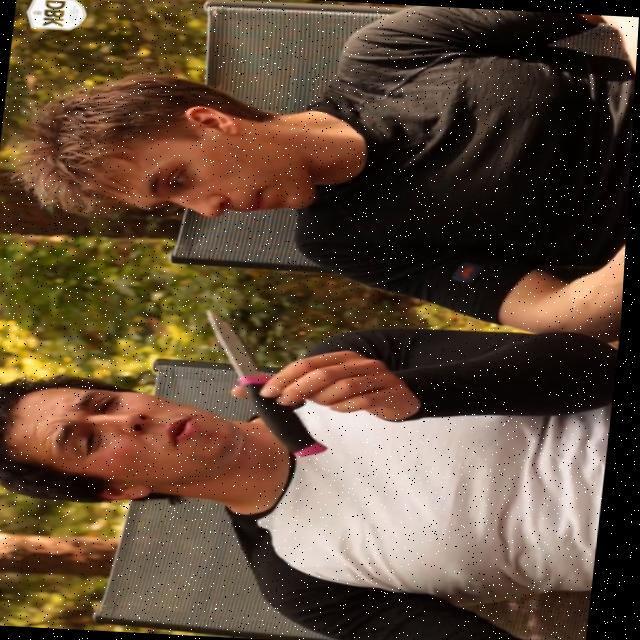knife: (179, 306, 360, 452)
